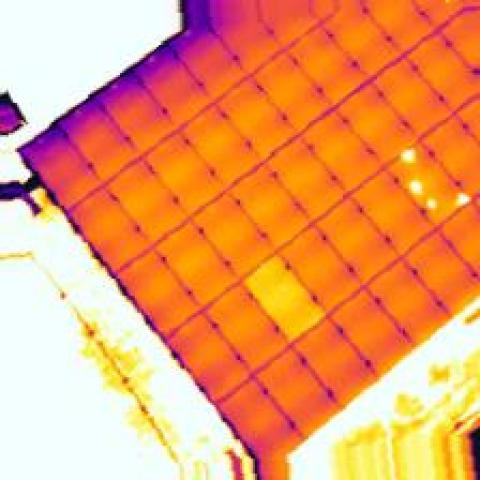fault: (396, 144, 418, 165), (405, 176, 426, 195), (454, 188, 472, 208), (424, 193, 437, 212)
